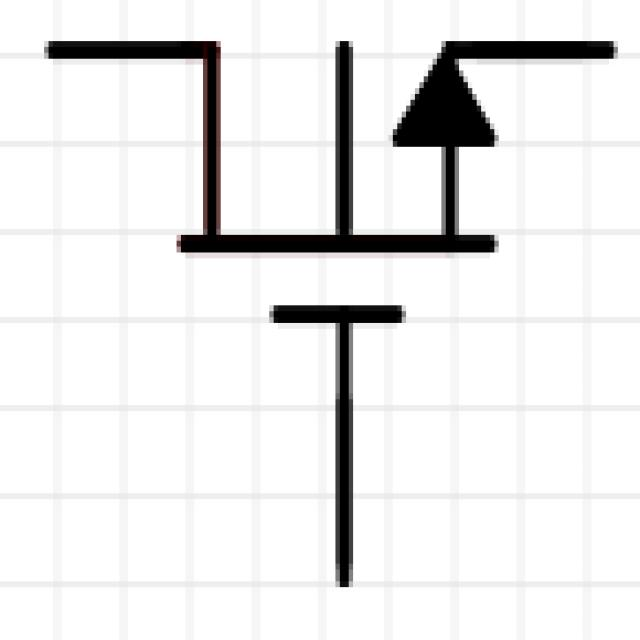pmos: (30, 0, 640, 640)
